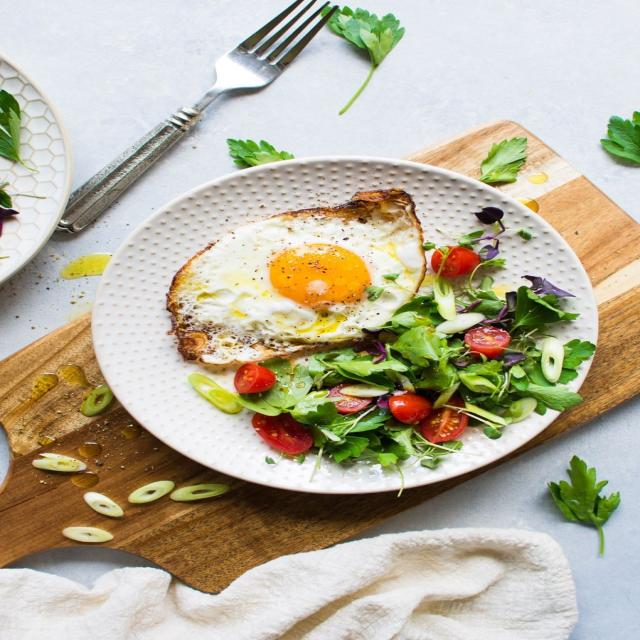Egg: (167, 189, 426, 364)
